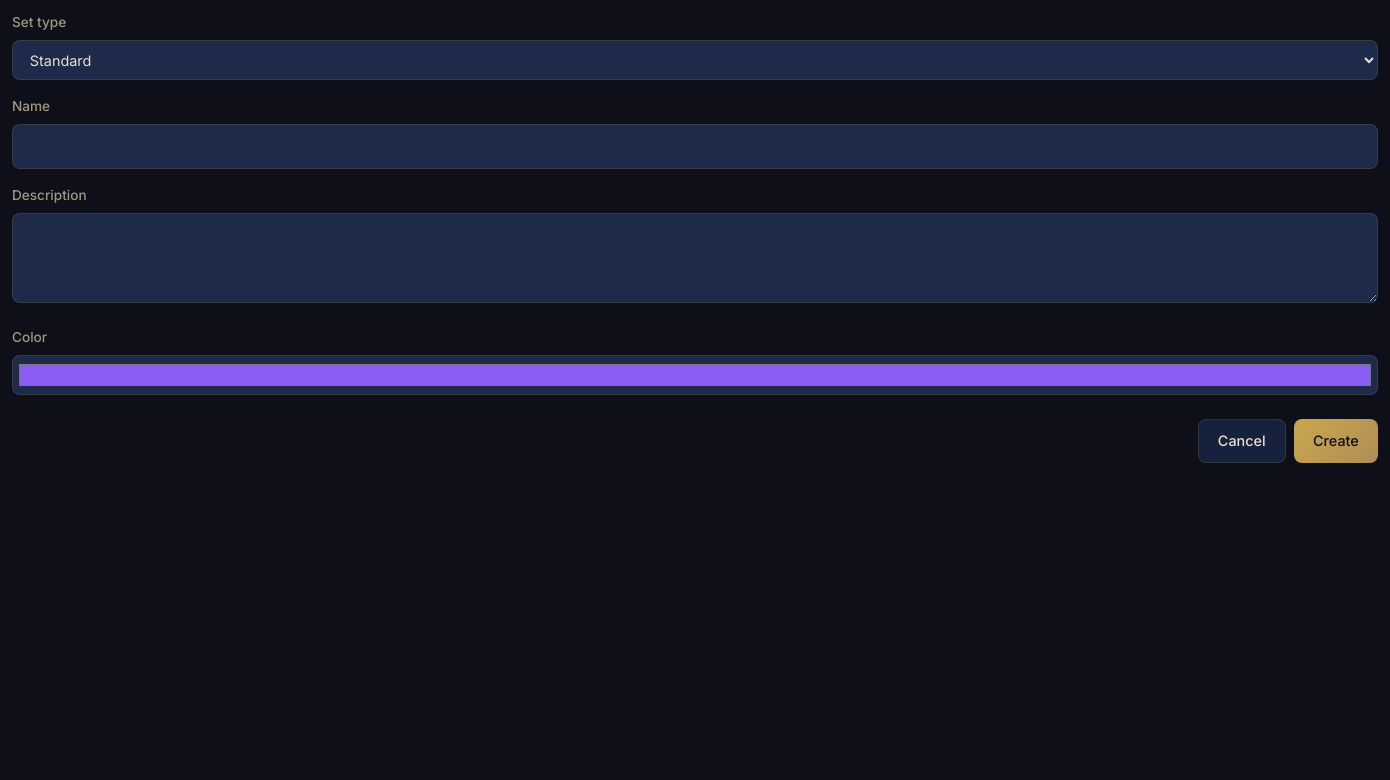
SetCreationWizard › shows goal completion guidance and hides legacy goal target fields
Select "Goal" in the dropdown with id "setType": coordinates (695, 60) [12,40,1378,80]
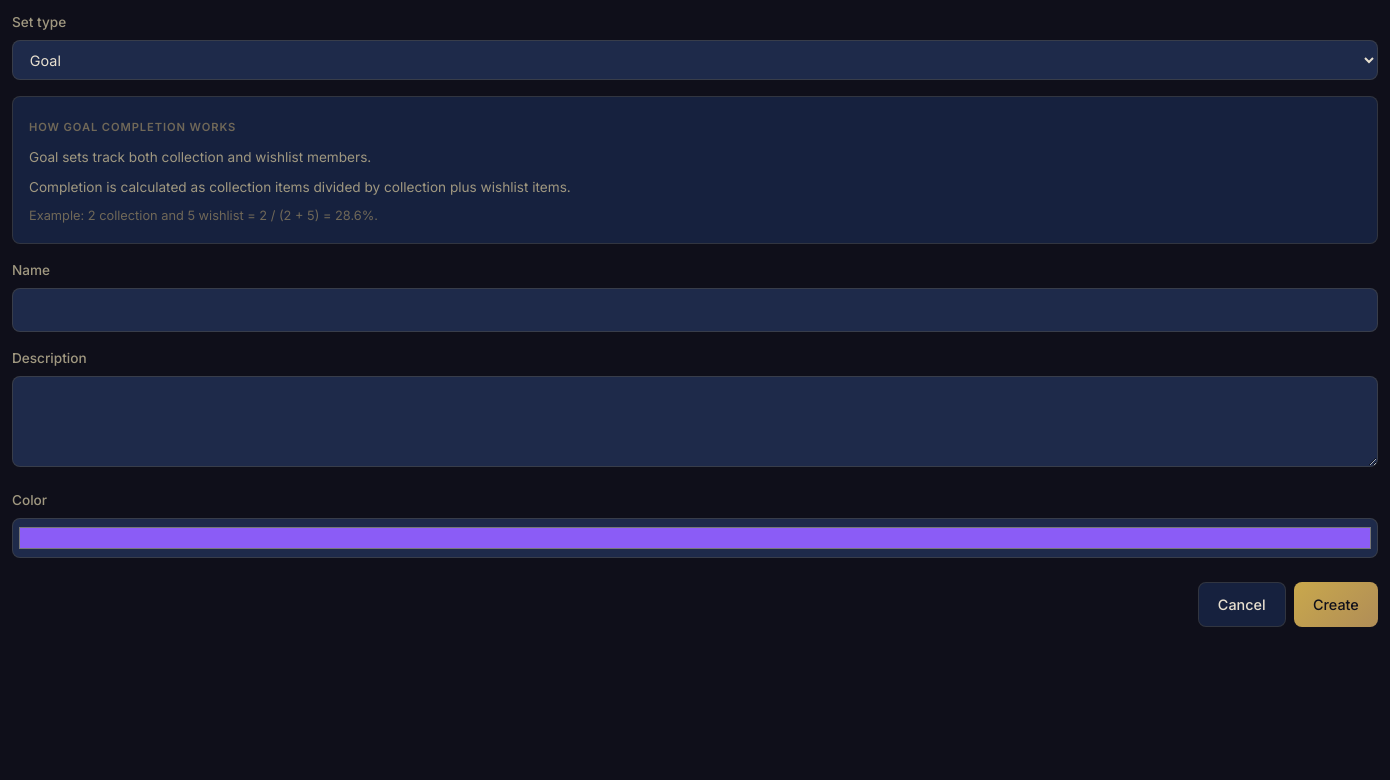
Result: the text "Goal sets track both collection and wishlist members." is shown at [29,149,371,165]
Result: the text "2 / (2 + 5) = 28.6%" is shown at [29,208,378,223]
